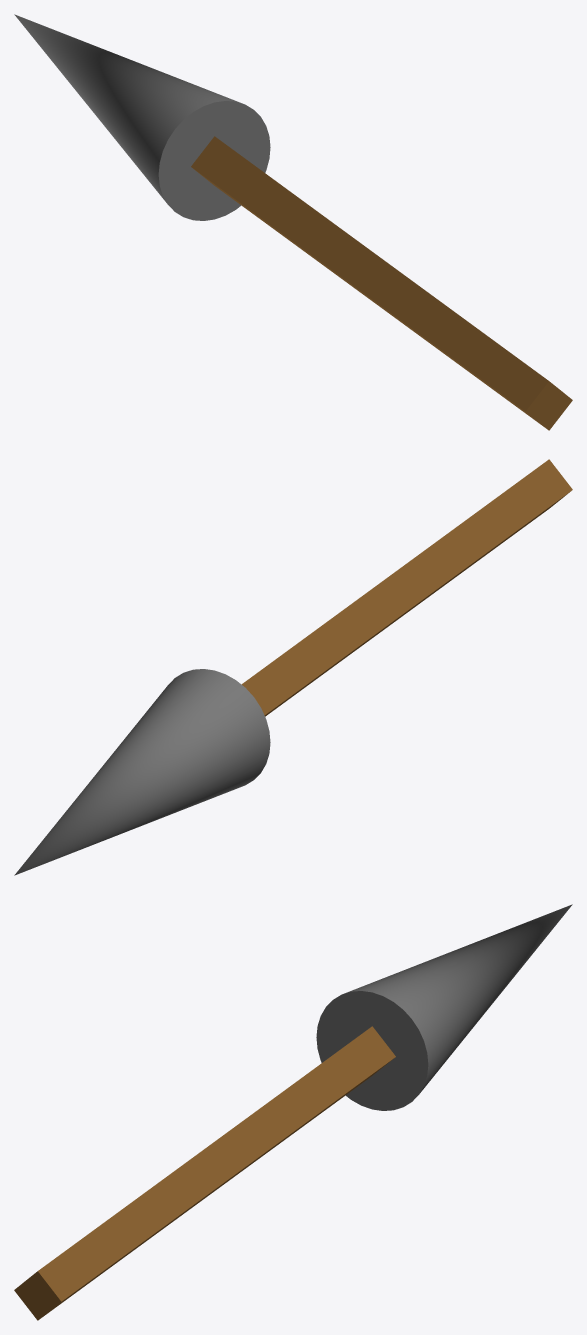
Rendered from arrow 1.fbx.
3 views of the same model, one above another, from view 1: azimuth 30°, elevation 25°; view 2: azimuth 150°, elevation 25°; view 3: azimuth 330°, elevation 25° (orthographic).
Parts seen in each view (by area): view 1: Cone; view 2: Cone; view 3: Cone.
Part boxes in pixels (x1,y1,x2,y2): Cone: (14, 14, 572, 430); Cone: (14, 459, 572, 875); Cone: (14, 904, 572, 1320).
Bounding box in the file's own units: 100 × 100 × 828.
